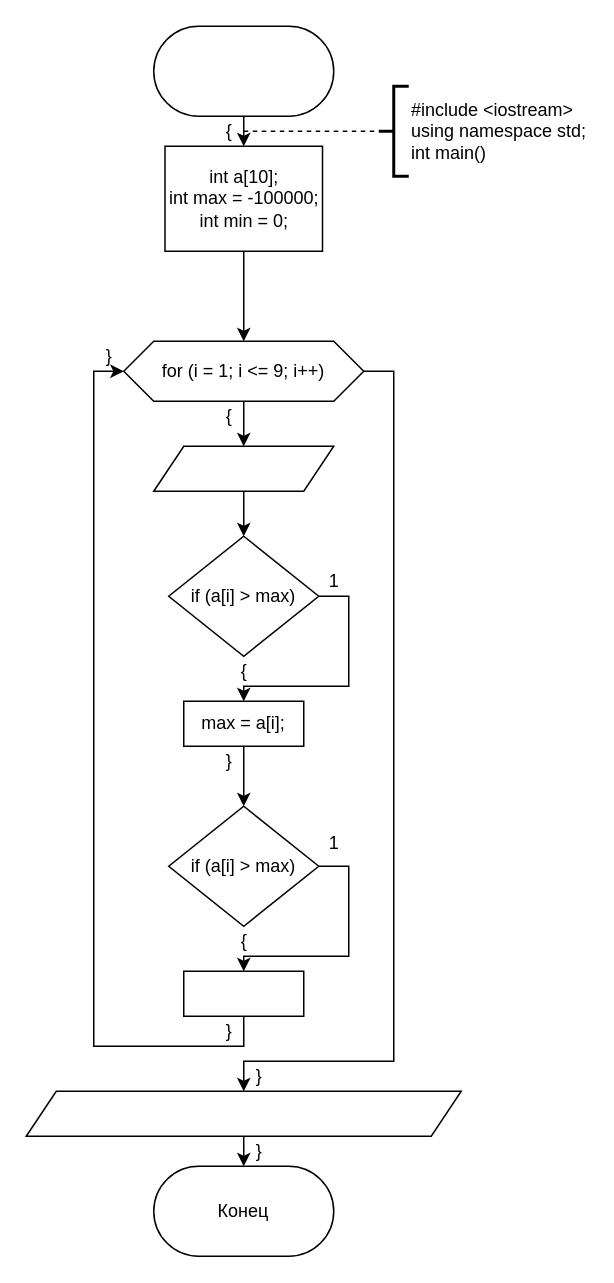
The diagram is 614 pixels wide and 1283 high, and some of its shapes have lost their labels. Each missing label, with the centre of its shape:
cin >> a[i];: point (243, 468)
cout << "Max: " << max << " Count: " << count;: point (243, 1113)
min = a[i];: point (243, 993)
Начало: point (243, 70)
